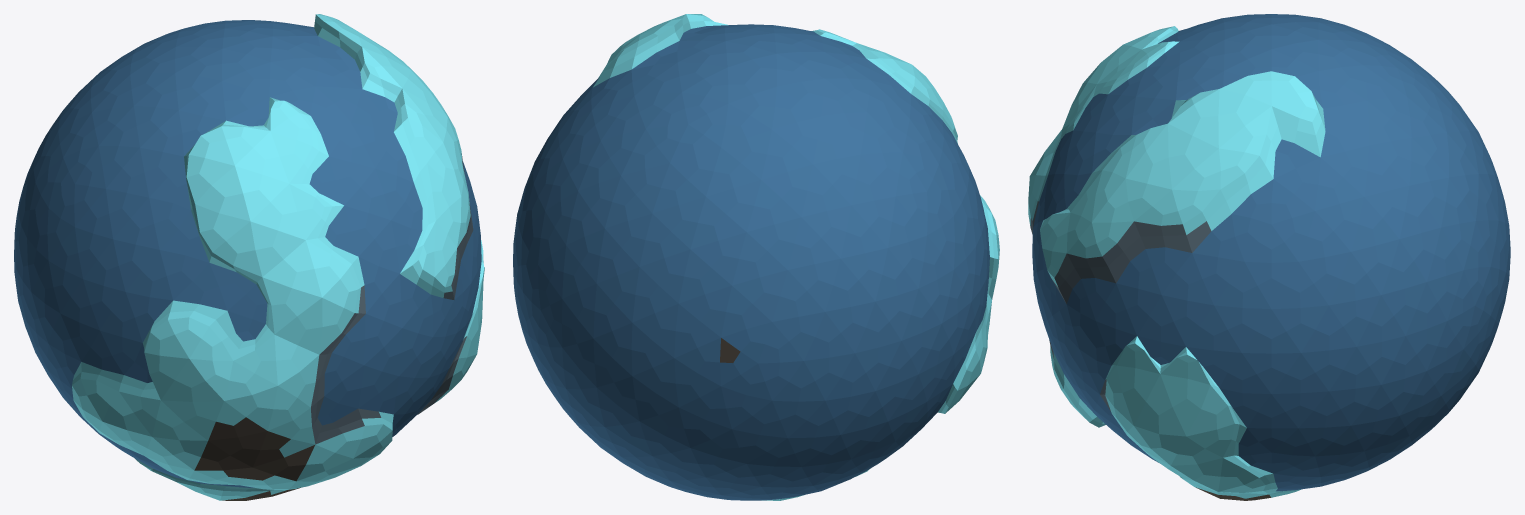
Rendered from Mdl_Planet2.fbx.
3 views of the same model, side by side, from view 1: azimuth 30°, elevation 25°; view 2: azimuth 150°, elevation 25°; view 3: azimuth 270°, elevation 25° (orthographic). The views are drawn at different scales.
Parts seen in each view (by area): view 1: planet_base; view 2: planet_base; view 3: planet_base.
Boxes of the visible parts, x1=… form: planet_base: x1=14, y1=14, x2=484, y2=500; planet_base: x1=513, y1=14, x2=999, y2=500; planet_base: x1=1028, y1=14, x2=1510, y2=500.
Bounding box in the file's own units: 9.94 × 10.4 × 10.02.
